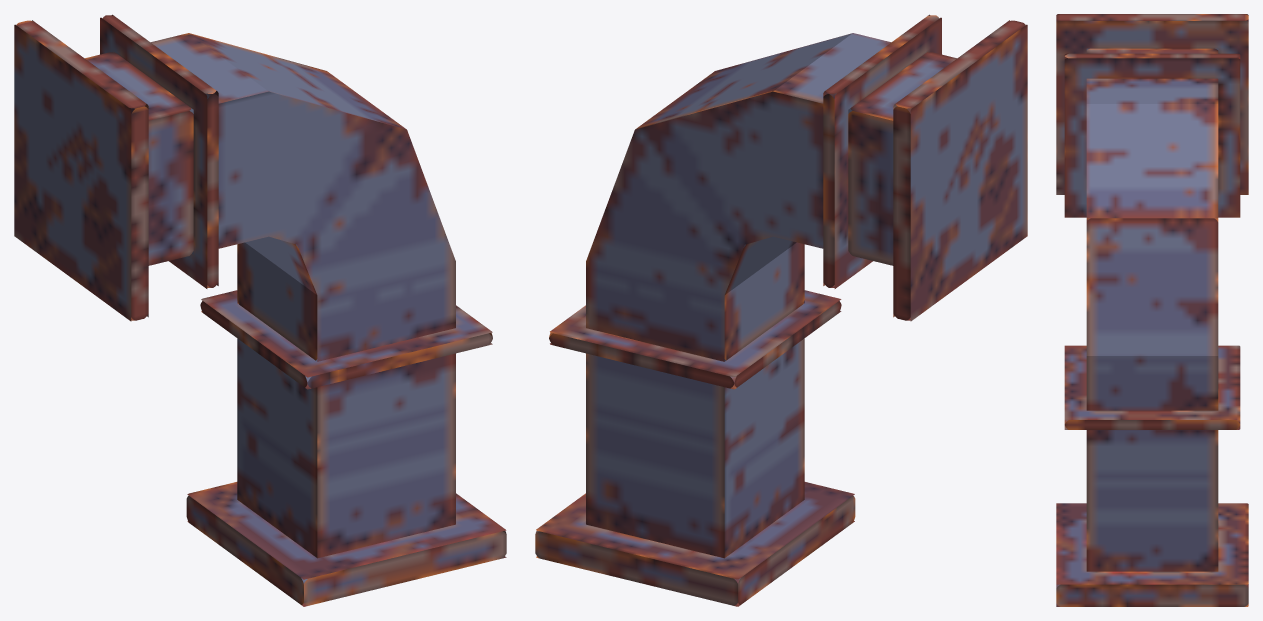
File: Gas Pipe.fbx
3 views of the same model, side by side, from view 1: azimuth 30°, elevation 25°; view 2: azimuth 150°, elevation 25°; view 3: azimuth 270°, elevation 25° (orthographic). The views are drawn at different scales.
Parts seen in each view (by area): view 1: mesh; view 2: mesh; view 3: mesh.
Boxes of the visible parts, box(x1,y1,x2,y2) form: mesh: box(14, 14, 506, 606); mesh: box(535, 14, 1027, 606); mesh: box(1056, 14, 1248, 606).
Bounding box in the file's own units: 271 × 372 × 146.
Materials: 1 (1 with a texture image).
